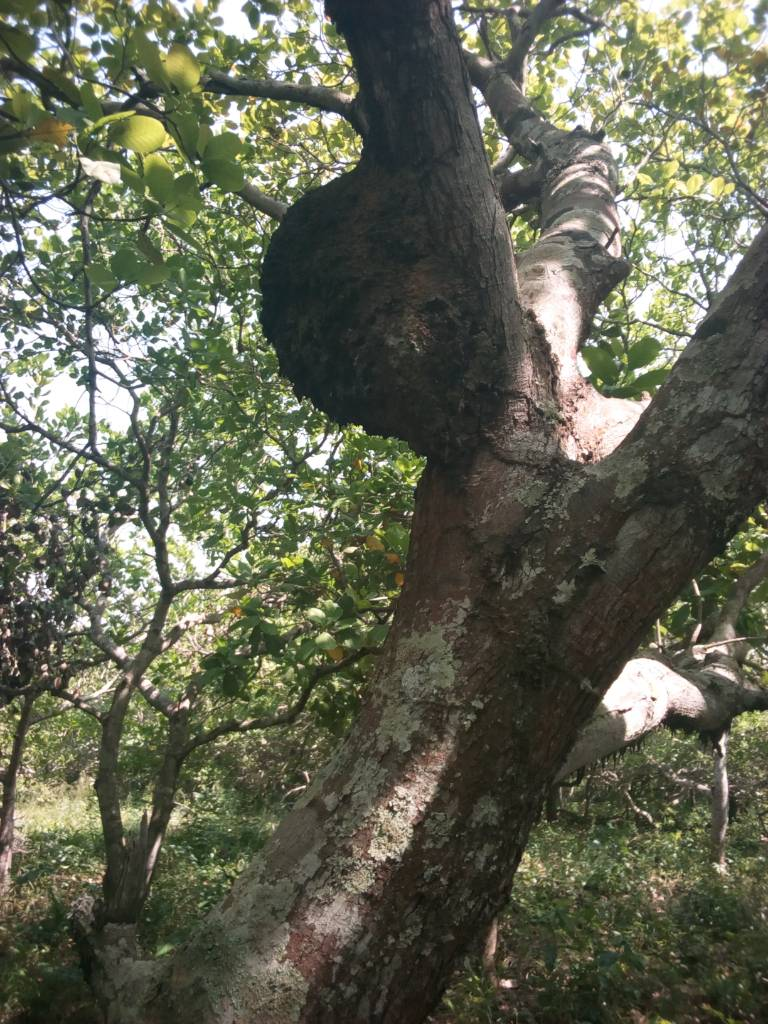Virose: (238, 170, 489, 487)
